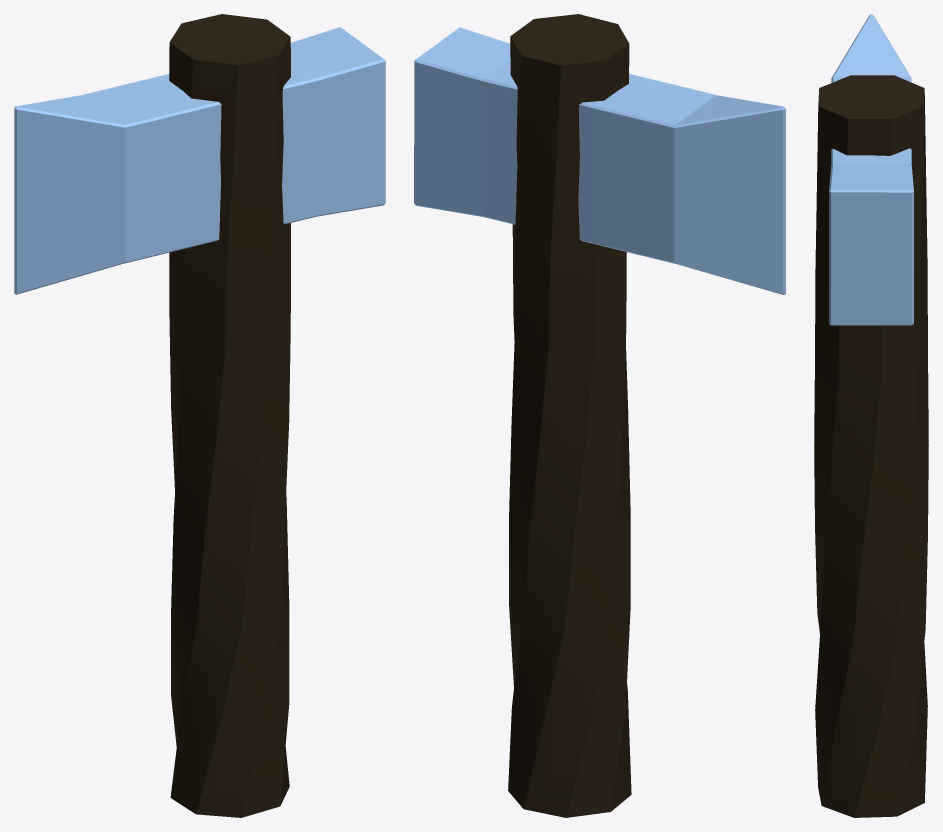
The model's file is Axe_1.obj.
The picture shows the model from 3 angles, left to right: view 1: azimuth 30°, elevation 25°; view 2: azimuth 150°, elevation 25°; view 3: azimuth 270°, elevation 25°; orthographic projection. The views are drawn at different scales.
Visible parts, largest first — view 1: pCylinder1, pCube1; view 2: pCylinder1, pCube1; view 3: pCylinder1, pCube1.
Boxes of the visible parts, x1,y1,x2,y2 form: pCylinder1: [169, 14, 290, 817]; pCube1: [14, 27, 385, 294]; pCylinder1: [508, 14, 631, 817]; pCube1: [414, 27, 785, 294]; pCylinder1: [814, 75, 928, 817]; pCube1: [829, 14, 913, 325].
Size of the model in its own units: 6.53 by 13.44 by 2.
